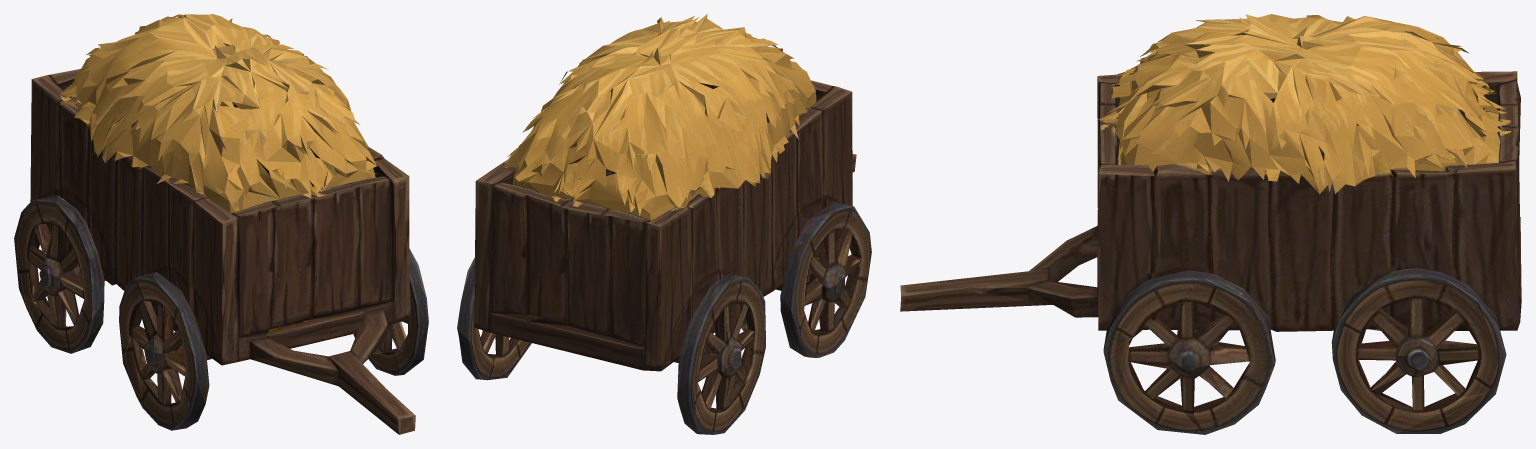
File: cart_3d.glb
3 views of the same model, side by side, from view 1: azimuth 30°, elevation 25°; view 2: azimuth 150°, elevation 25°; view 3: azimuth 270°, elevation 25° (orthographic). The views are drawn at different scales.
Parts seen in each view (by area): view 1: Mesh_0; view 2: Mesh_0; view 3: Mesh_0.
Boxes of the visible parts, left/top/right/bottom form: Mesh_0: left=14, top=14, right=428, bottom=434; Mesh_0: left=457, top=14, right=871, bottom=434; Mesh_0: left=900, top=14, right=1521, bottom=434.
Size of the model in its own units: 0.9597 by 1.16 by 1.88.
Materials: 1 (1 with a texture image).
